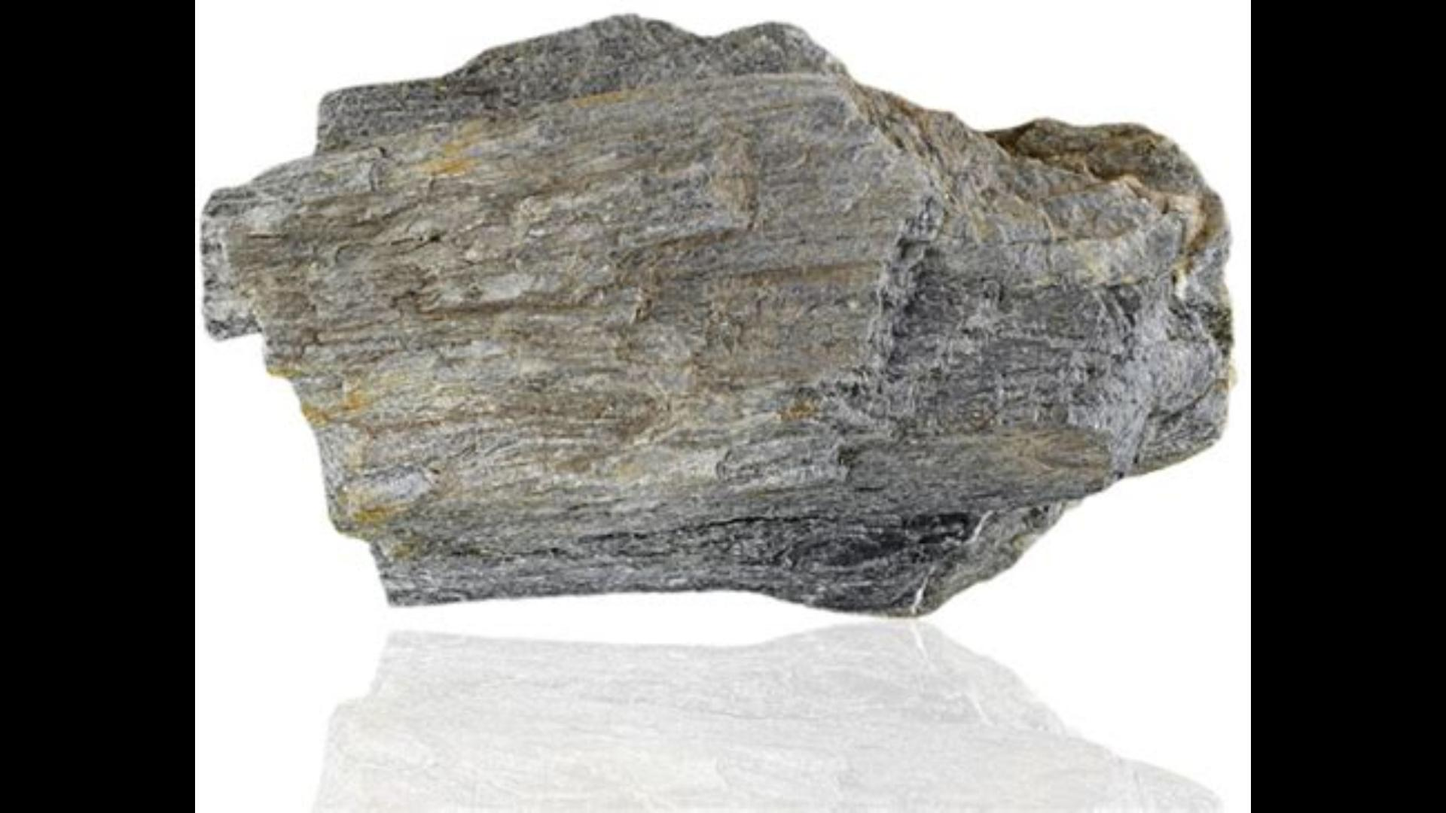rock: (204, 18, 1225, 608)
